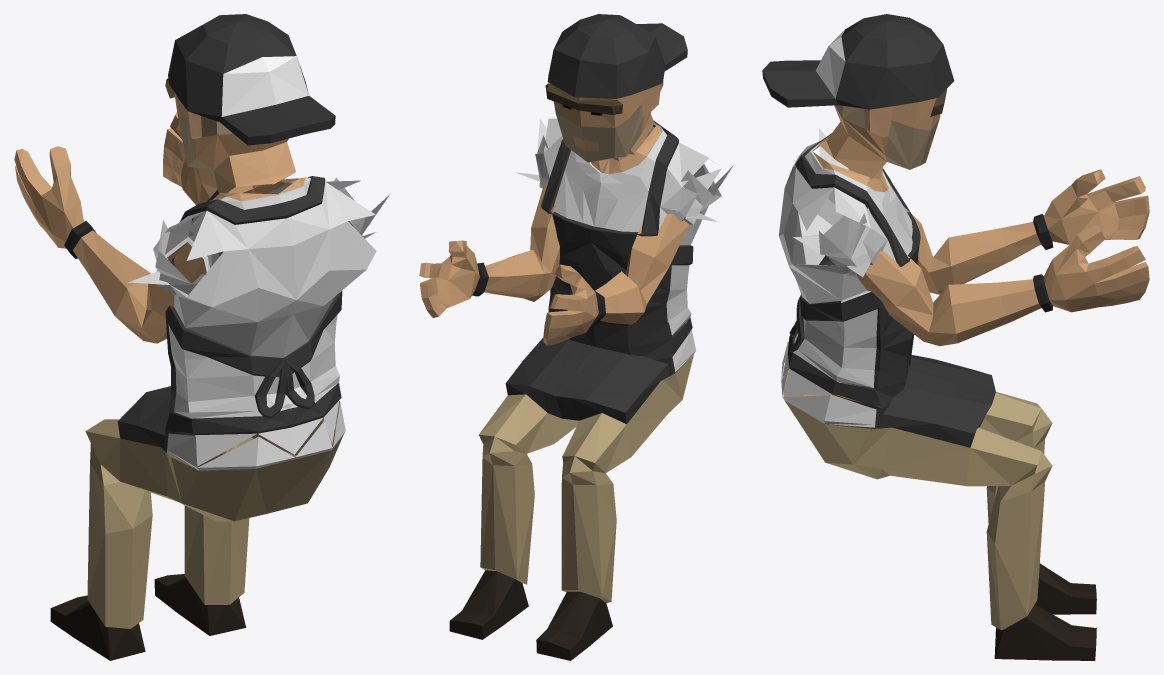
Rendered from Cop_nodding.obj.
3 views of the same model, side by side, from view 1: azimuth 30°, elevation 25°; view 2: azimuth 150°, elevation 25°; view 3: azimuth 270°, elevation 25° (orthographic). The views are drawn at different scales.
Visible parts, largest first — view 1: Cop_nodding; view 2: Cop_nodding; view 3: Cop_nodding.
Boxes of the visible parts, box(x1,y1,x2,y2) form: Cop_nodding: box(14, 14, 389, 660); Cop_nodding: box(419, 14, 733, 660); Cop_nodding: box(762, 14, 1149, 660).
Size of the model in its own units: 0.5658 by 1.47 by 0.8511.
Materials: 1 (1 with a texture image).
